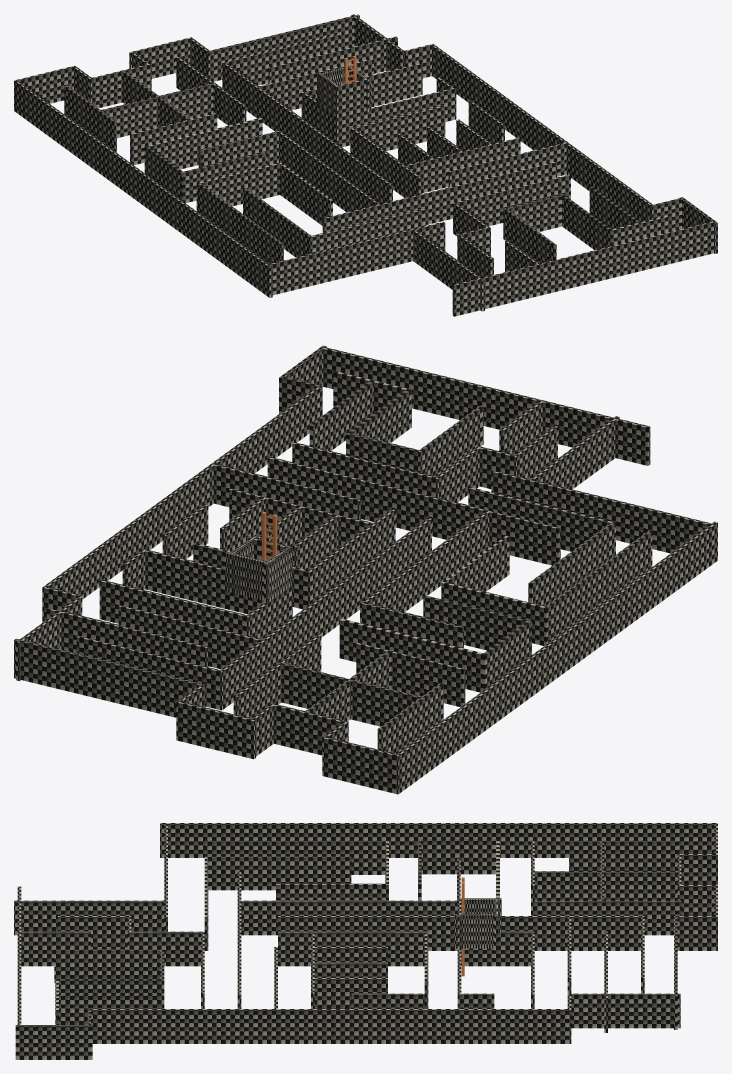
Rendered from knezi1.glb.
The picture shows the model from 3 angles, top to bottom: view 1: azimuth 30°, elevation 25°; view 2: azimuth 150°, elevation 25°; view 3: azimuth 270°, elevation 25°; orthographic projection. The views are drawn at different scales.
Parts seen in each view (by area): view 1: block.028, block.038, block.020, block.062, block.030, block.046, block.033, block.047, block.063, block.048, block.011, block.008 (+50 smaller); view 2: block.028, block.020, block.038, block.062, block.033, block.046, block.047, block.063, block.030, block.070, block.048, block.036 (+50 smaller); view 3: block.020, block.028, block.041, block.064, block.047, block.046, block.010, block.013, block.035, block.059, block.017, block.001 (+32 smaller).
Part boxes in pixels (left/top/right/bottom): block.028: left=48, top=104, right=272, bottom=297; block.038: left=452, top=228, right=686, bottom=316; block.020: left=432, top=45, right=645, bottom=222; block.062: left=322, top=161, right=556, bottom=232; block.030: left=269, top=236, right=386, bottom=295; block.046: left=276, top=101, right=392, bottom=203; block.033: left=207, top=14, right=359, bottom=81; block.047: left=278, top=131, right=380, bottom=212; block.063: left=98, top=83, right=213, bottom=139; block.048: left=144, top=118, right=262, bottom=173; block.011: left=453, top=174, right=570, bottom=233; block.008: left=402, top=137, right=520, bottom=197; block.028: left=437, top=521, right=717, bottom=762; block.020: left=45, top=392, right=312, bottom=599; block.038: left=357, top=355, right=650, bottom=465; block.062: left=267, top=456, right=560, bottom=565; block.033: left=14, top=638, right=205, bottom=717; block.046: left=286, top=518, right=431, bottom=654; block.047: left=360, top=511, right=489, bottom=623; block.063: left=281, top=663, right=425, bottom=733; block.030: left=564, top=488, right=711, bottom=553; block.070: left=145, top=549, right=292, bottom=618; block.048: left=339, top=618, right=487, bottom=692; block.036: left=46, top=607, right=208, bottom=666; block.020: left=106, top=1009, right=567, bottom=1043; block.028: left=160, top=823, right=643, bottom=857; block.041: left=204, top=855, right=351, bottom=890; block.064: left=531, top=871, right=677, bottom=900; block.047: left=241, top=900, right=456, bottom=935; block.046: left=278, top=916, right=526, bottom=950; block.010: left=278, top=931, right=424, bottom=966; block.013: left=14, top=900, right=167, bottom=935; block.035: left=534, top=916, right=644, bottom=950; block.059: left=569, top=840, right=677, bottom=871; block.017: left=54, top=948, right=163, bottom=983; block.001: left=534, top=900, right=681, bottom=935.
Size of what is drawn, in the model's own units: 13.13 by 2.8 by 19.2.
77 materials, 71 textured.
